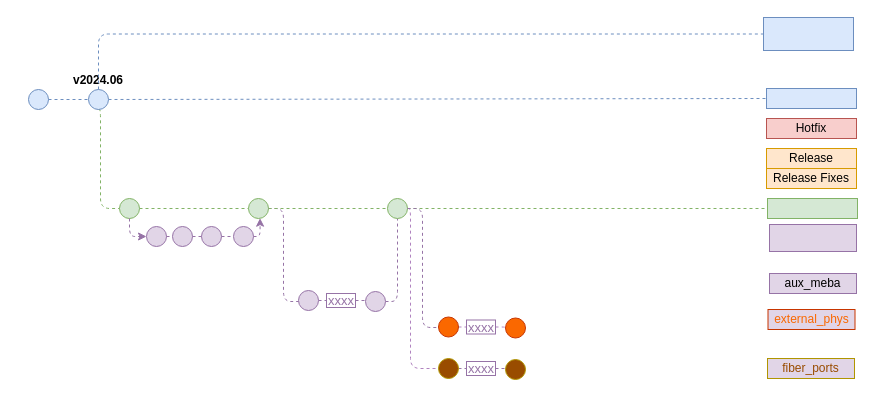
This 875x397 diagram has some shape labels left out. The shapes that lost their labels are listed below. From the top down, each one's centre as x and y in pixels, then its label:
At (x=808, y=33): "microchip-mirror-master".
At (x=38, y=99): "initial commit".
At (x=811, y=98): "main".
At (x=812, y=208): "Integration".
At (x=812, y=238): "Porting MESA To Torizon".
